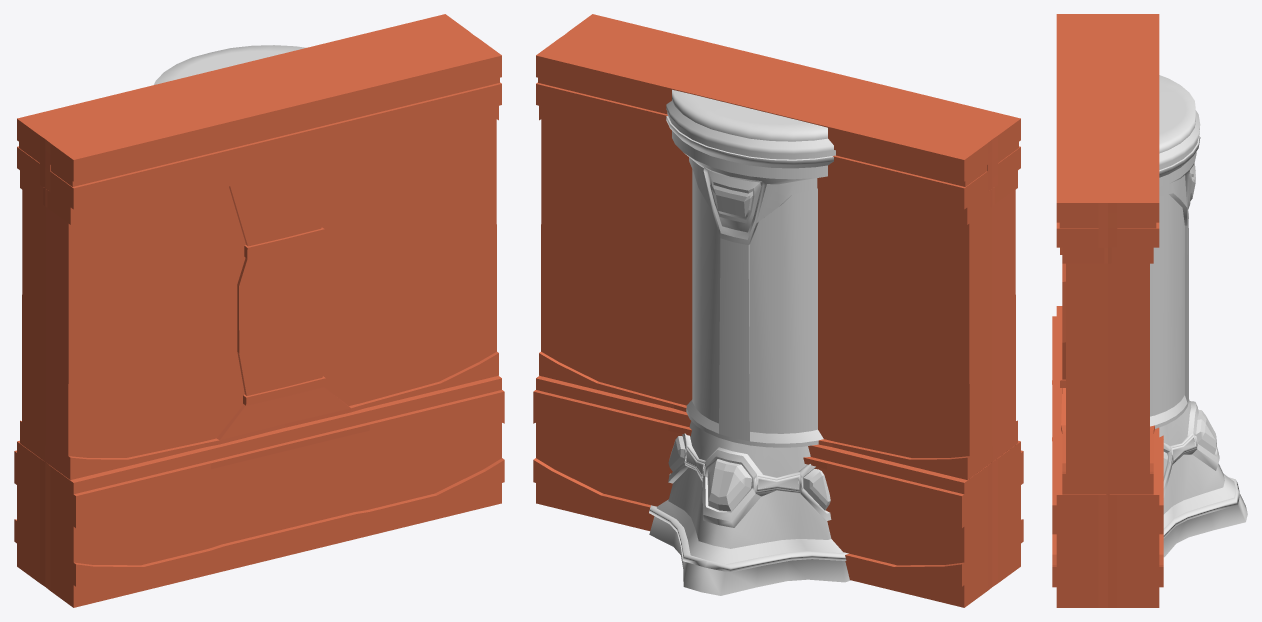
File: Mur_Pylone_Game.fbx
3 renders of one model, left to right at view 1: azimuth 30°, elevation 25°; view 2: azimuth 150°, elevation 25°; view 3: azimuth 270°, elevation 25°, orthographic. The views are drawn at different scales.
Visible parts, largest first — view 1: Mur_Plein, Pylone; view 2: Mur_Plein, Pylone; view 3: Mur_Plein, Pylone.
Boxes of the visible parts, bbox=[...] form: Mur_Plein: bbox=[14, 14, 504, 607]; Pylone: bbox=[154, 45, 306, 84]; Mur_Plein: bbox=[533, 14, 1023, 607]; Pylone: bbox=[649, 89, 850, 595]; Mur_Plein: bbox=[1052, 14, 1163, 607]; Pylone: bbox=[1150, 75, 1247, 557].
Bounding box in the file's own units: 200 × 200 × 87.61.
